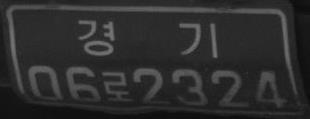0: (26, 64, 64, 101)
2: (210, 68, 251, 107), (132, 66, 170, 105)
3: (171, 67, 209, 107)
4: (254, 69, 289, 108)
6: (64, 65, 102, 103)
경기_D: (77, 19, 218, 59)
로: (102, 70, 132, 102)
